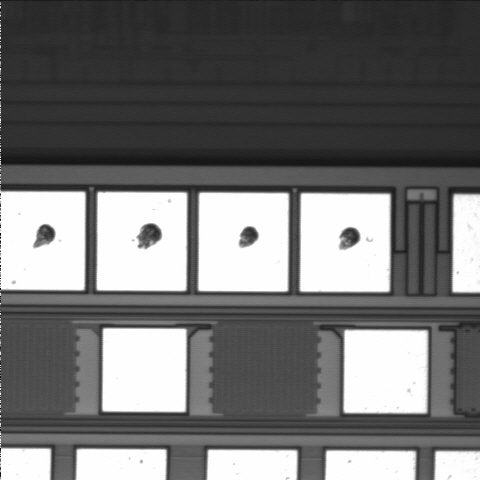pad: (198, 193, 289, 291), (97, 192, 187, 291), (300, 193, 390, 292), (102, 329, 186, 412), (344, 330, 427, 413)
